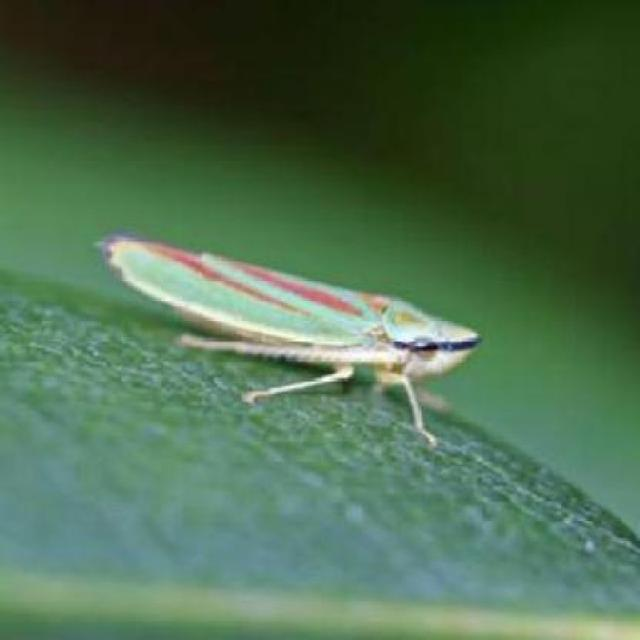green-leafhopper: (102, 232, 462, 420)
